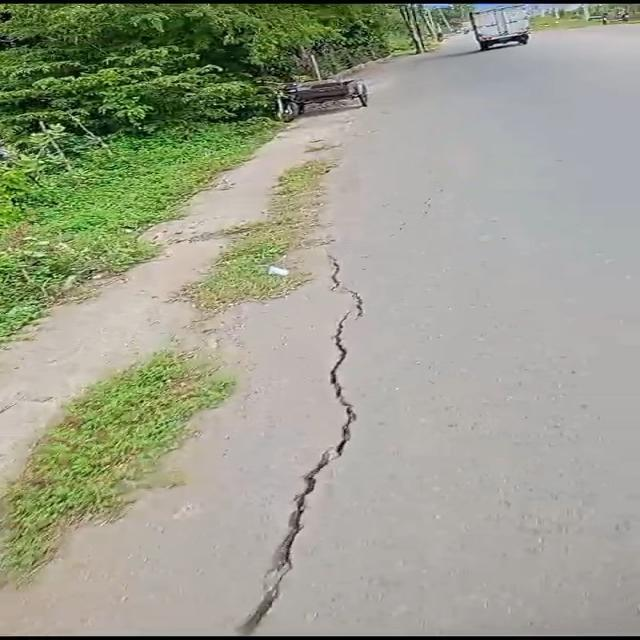Memanjang: (206, 237, 378, 640)
